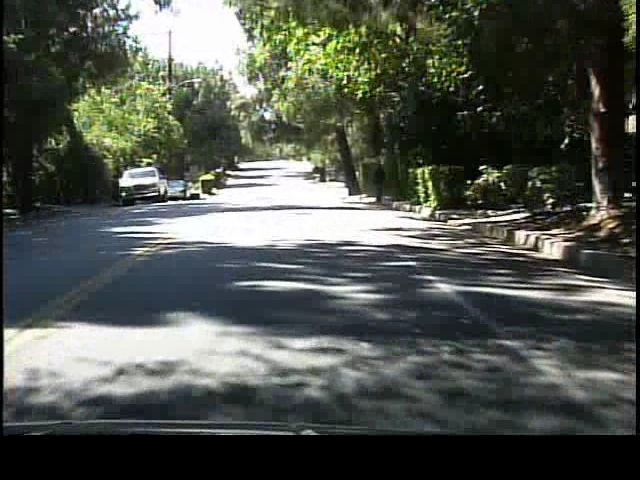person: (371, 155, 389, 207)
